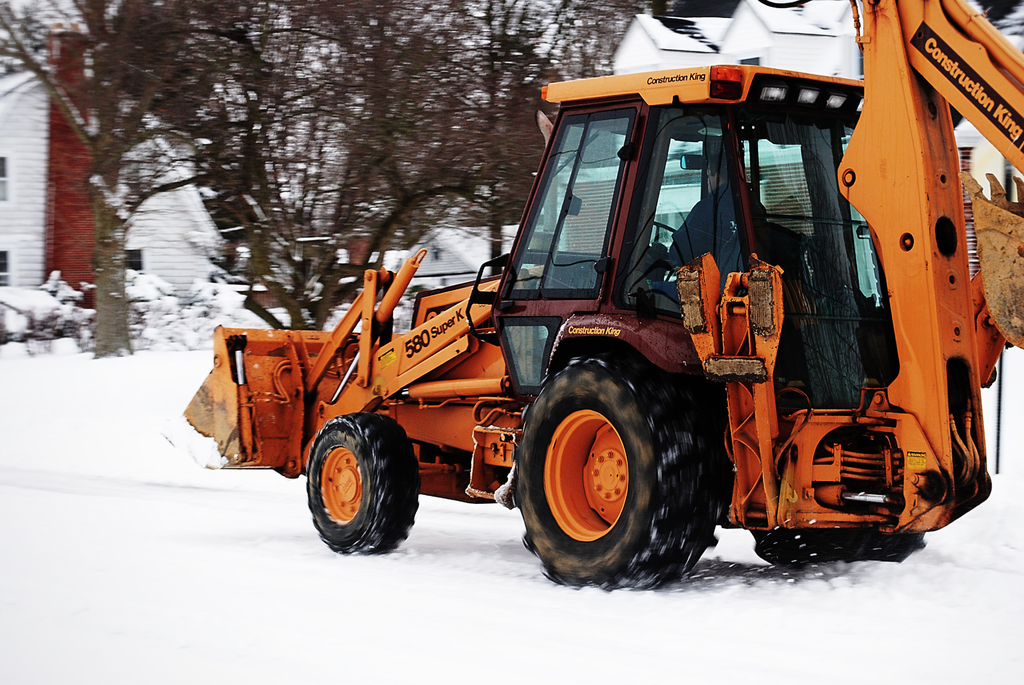Tree: (0, 1, 676, 365)
